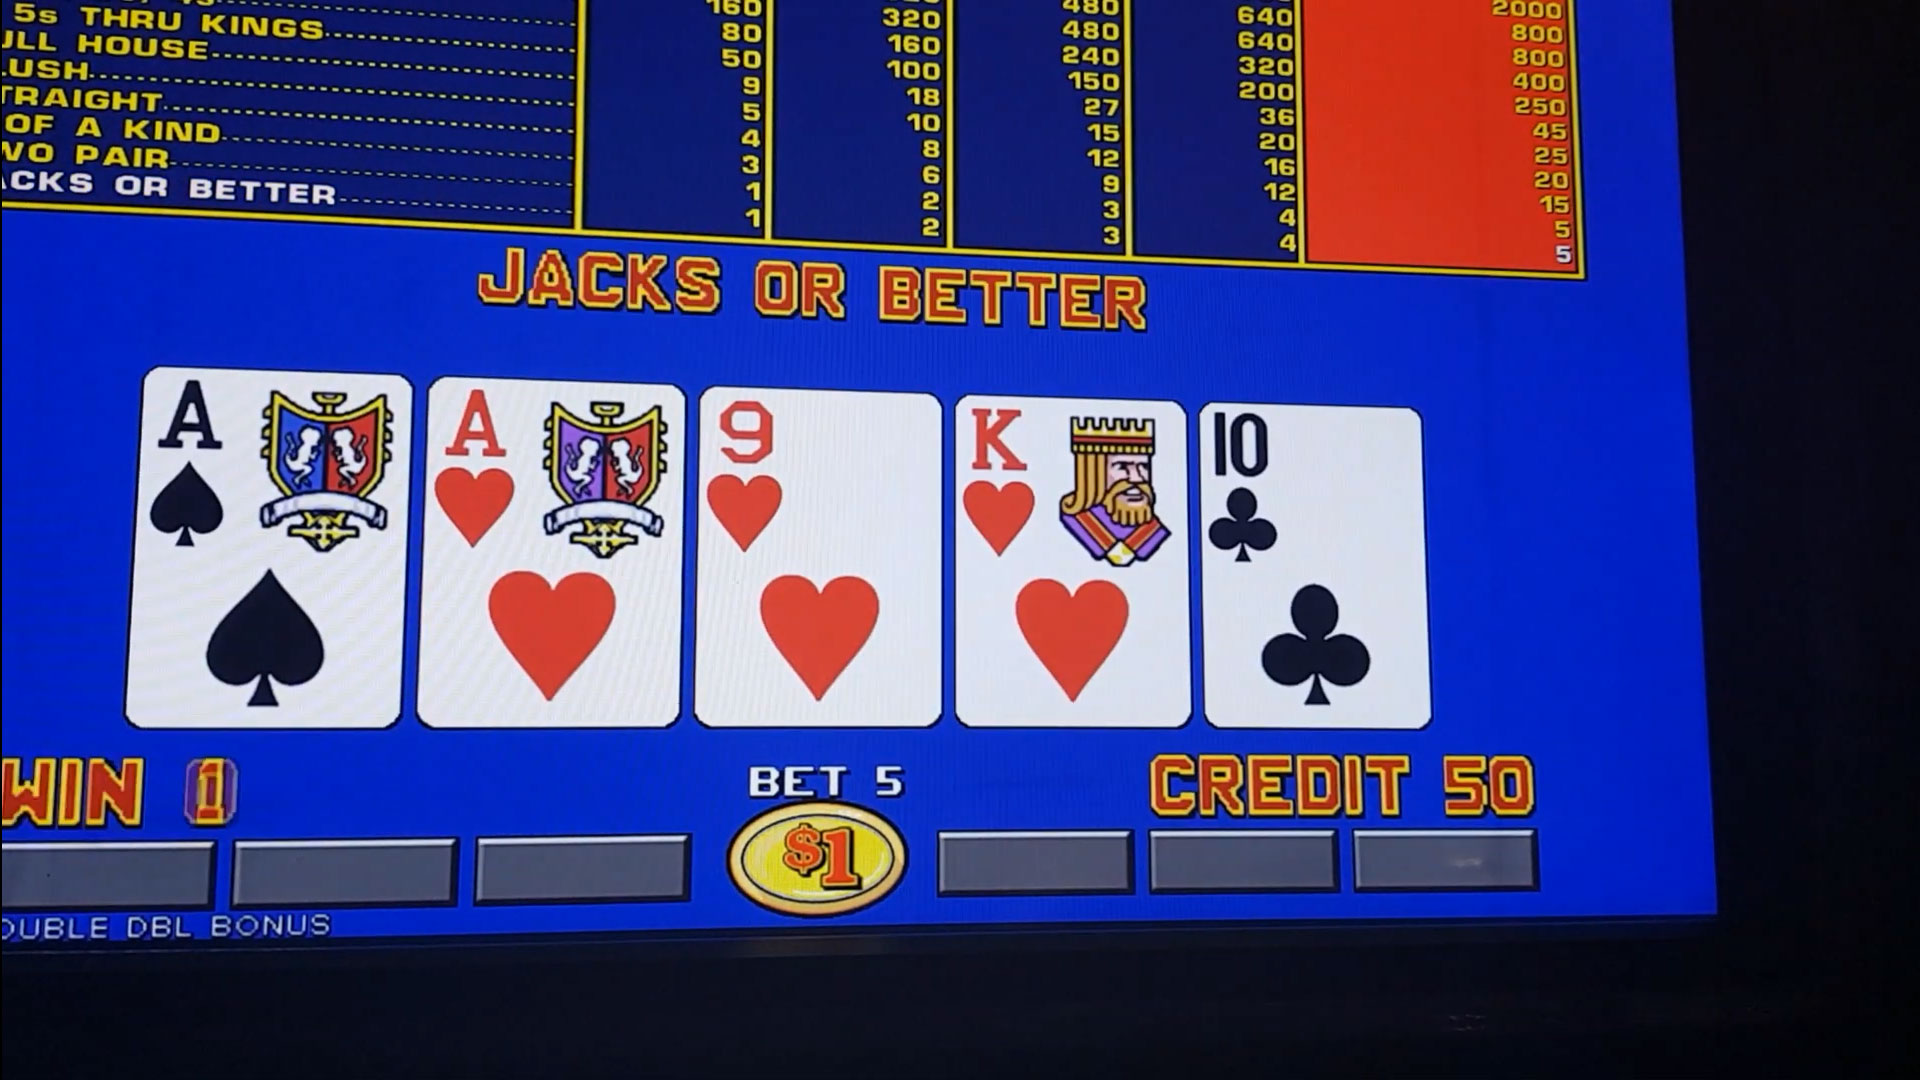CT: (1207, 413, 1418, 575)
H9: (705, 400, 940, 564)
HA: (433, 390, 680, 560)
HK: (961, 402, 1185, 568)
SA: (150, 378, 401, 558)
